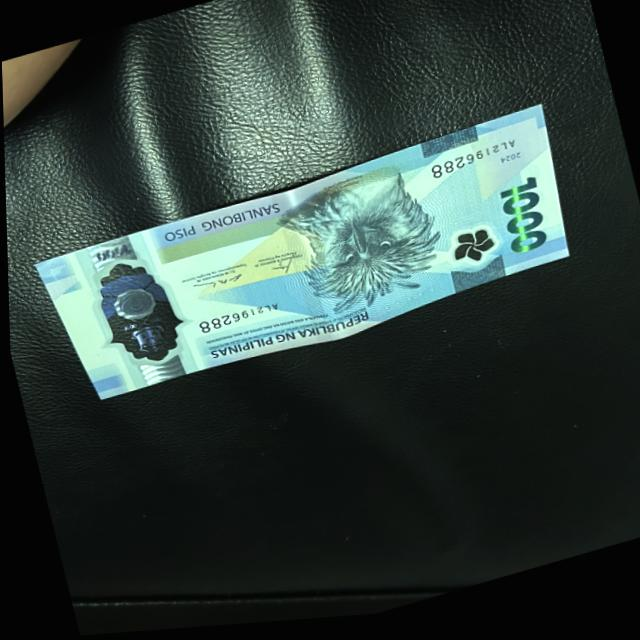clear_window: (78, 251, 192, 387)
eagle: (281, 170, 446, 326)
sampaguita: (441, 227, 504, 280)
